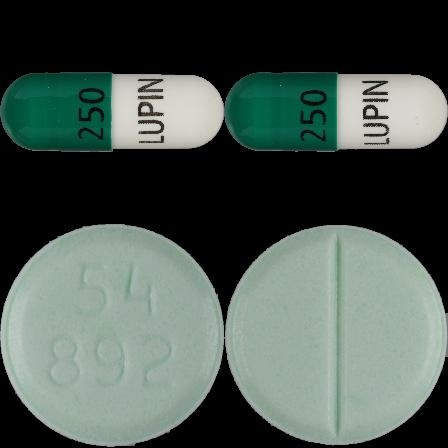50090-0073: (0, 0, 224, 224)
